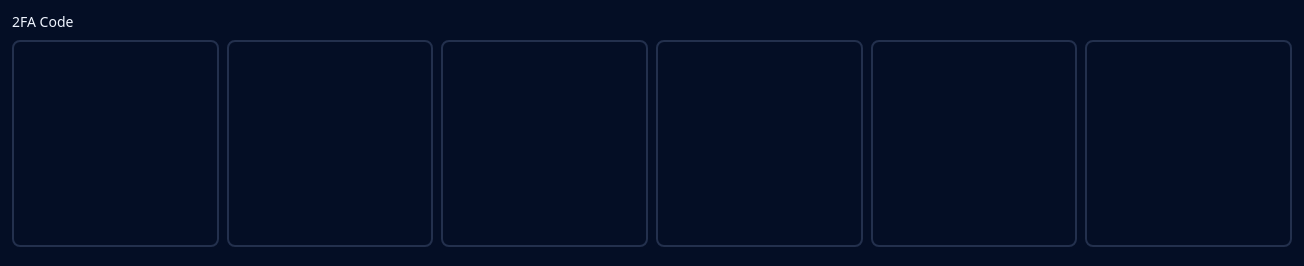
Test: TwoFactorInput Component › Auto-focus Behavior › should auto-focus through all 6 inputs
Click the field named "Digit 1 of 6" at (115, 143), box [12, 40, 219, 247]
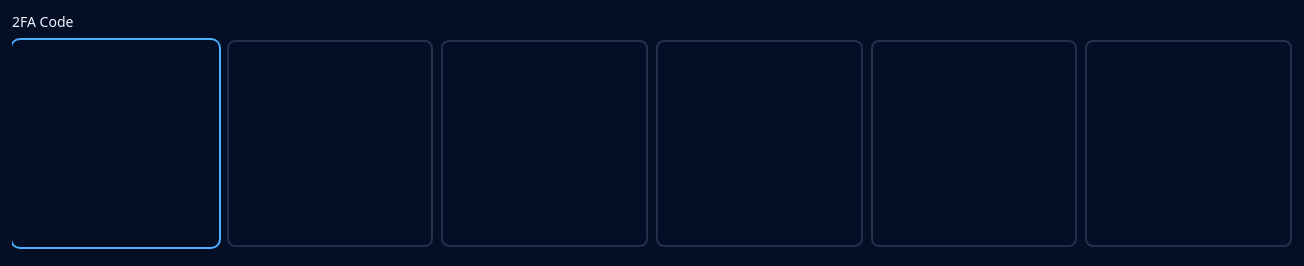
Type keys "123456"
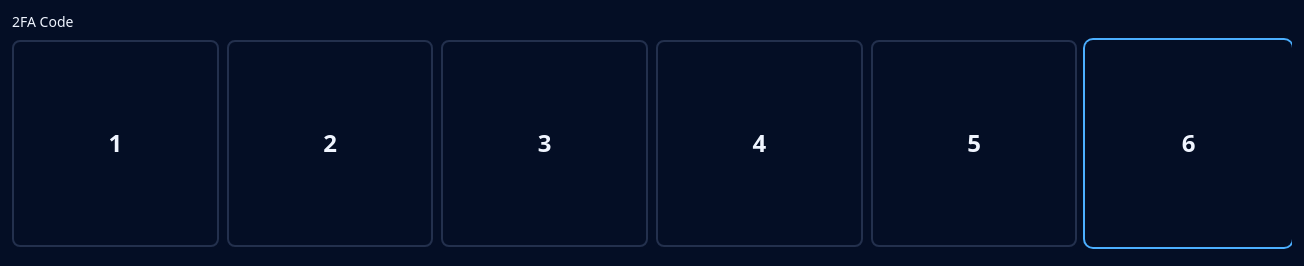
Now the field named "Digit 6 of 6" holds "6", box [1085, 40, 1292, 247]
